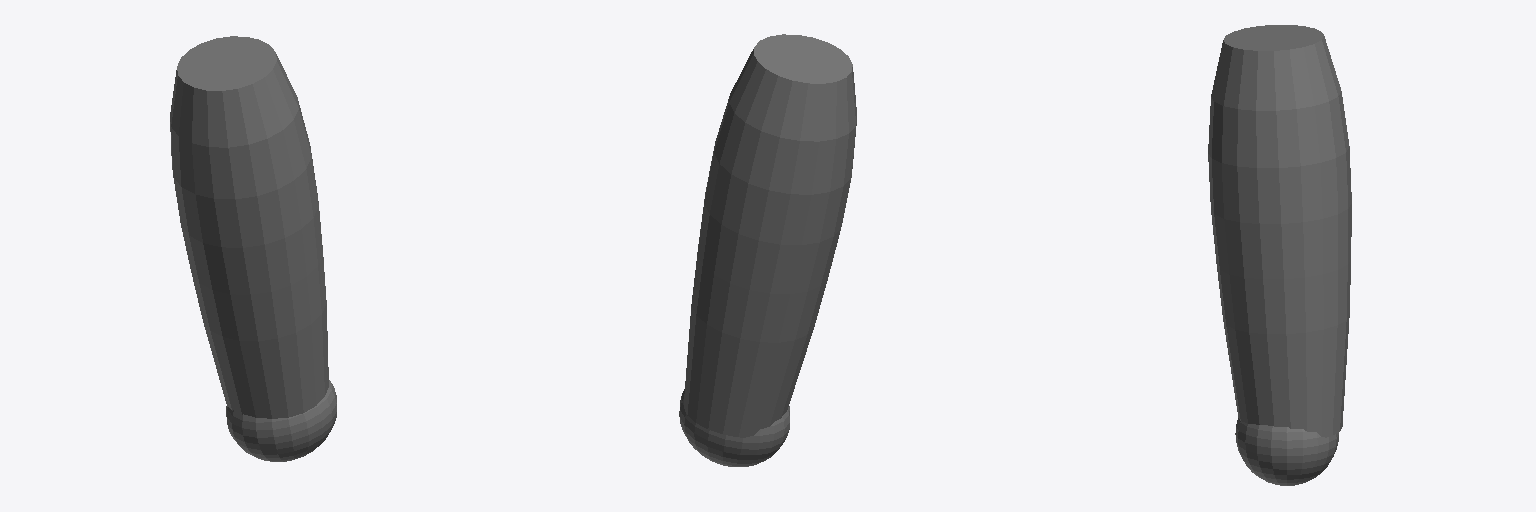
Rendered from legL.obj.
3 views of the same model, side by side, from view 1: azimuth 30°, elevation 25°; view 2: azimuth 150°, elevation 25°; view 3: azimuth 270°, elevation 25° (orthographic).
Visible parts, largest first — view 1: legL:pCylinder12; view 2: legL:pCylinder12; view 3: legL:pCylinder12.
Boxes of the visible parts, x1=… form: legL:pCylinder12: x1=170, y1=36, x2=336, y2=461; legL:pCylinder12: x1=679, y1=34, x2=856, y2=466; legL:pCylinder12: x1=1208, y1=25, x2=1351, y2=485.
Size of the model in its own units: 3.53 by 8.96 by 2.77.